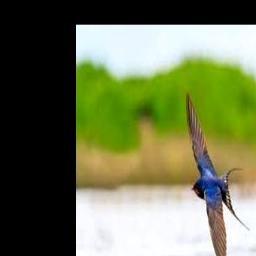Swallow: (187, 90, 250, 256)
